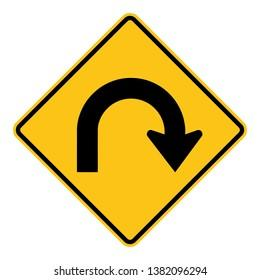Right Hair Pin Bend: (41, 33, 230, 225)
